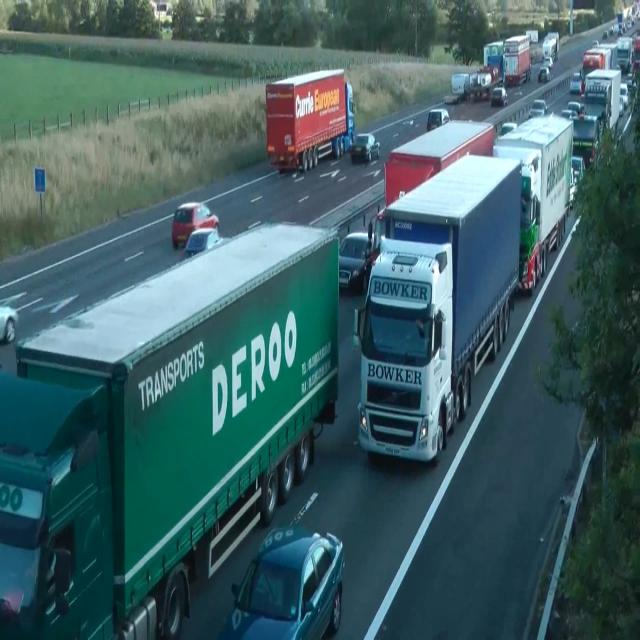bus: (217, 525, 345, 639), (171, 201, 219, 249), (338, 231, 372, 293), (183, 228, 219, 258), (350, 132, 380, 162), (0, 304, 18, 343), (426, 108, 451, 132), (571, 156, 585, 184), (490, 86, 508, 107), (529, 99, 547, 118), (569, 71, 581, 93), (499, 122, 517, 136), (620, 82, 629, 109), (568, 100, 584, 114), (538, 66, 550, 82), (444, 93, 460, 104), (626, 73, 637, 87), (543, 55, 553, 70), (591, 39, 599, 47)
minibus: (0, 219, 340, 638), (352, 152, 522, 464), (492, 111, 574, 295), (384, 118, 494, 209), (265, 68, 355, 174), (582, 68, 622, 134), (561, 106, 601, 170), (580, 44, 618, 98), (503, 34, 531, 86), (483, 39, 504, 85), (343, 82, 355, 152), (617, 36, 633, 72), (451, 72, 469, 100), (542, 31, 558, 61), (524, 29, 538, 43)
